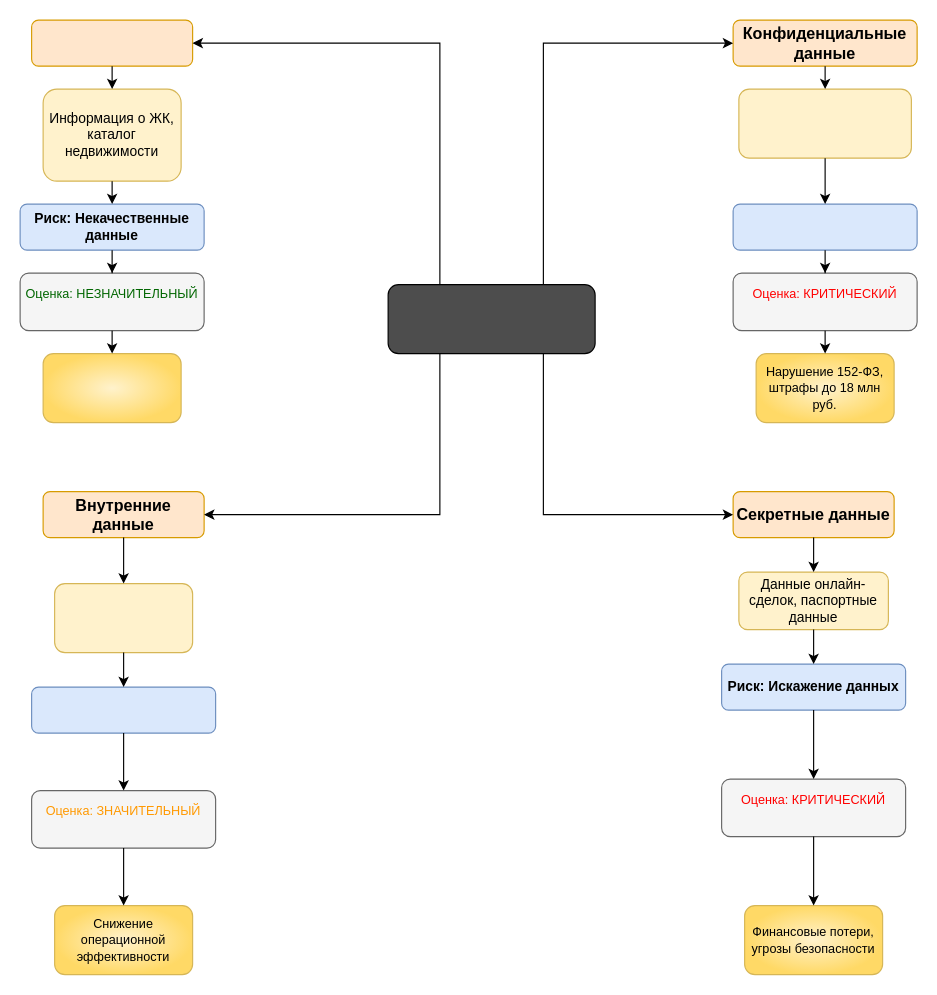
The diagram is 937 pixels wide and 995 high, and some of its shapes have lost their labels. Each missing label, with the box of its shape:
Безопасность данных PropDevelopment: (387, 283, 595, 354)
Методики работы, бизнес-процессы: (53, 582, 193, 653)
Персональные данные клиентов, данные бронирований: (738, 88, 911, 158)
Публичные данные: (30, 19, 193, 66)
Репутационные потери: (42, 352, 181, 423)
Риск: Обесценивание данных: (30, 686, 216, 733)
Риск: Утечка данных: (732, 203, 917, 250)
